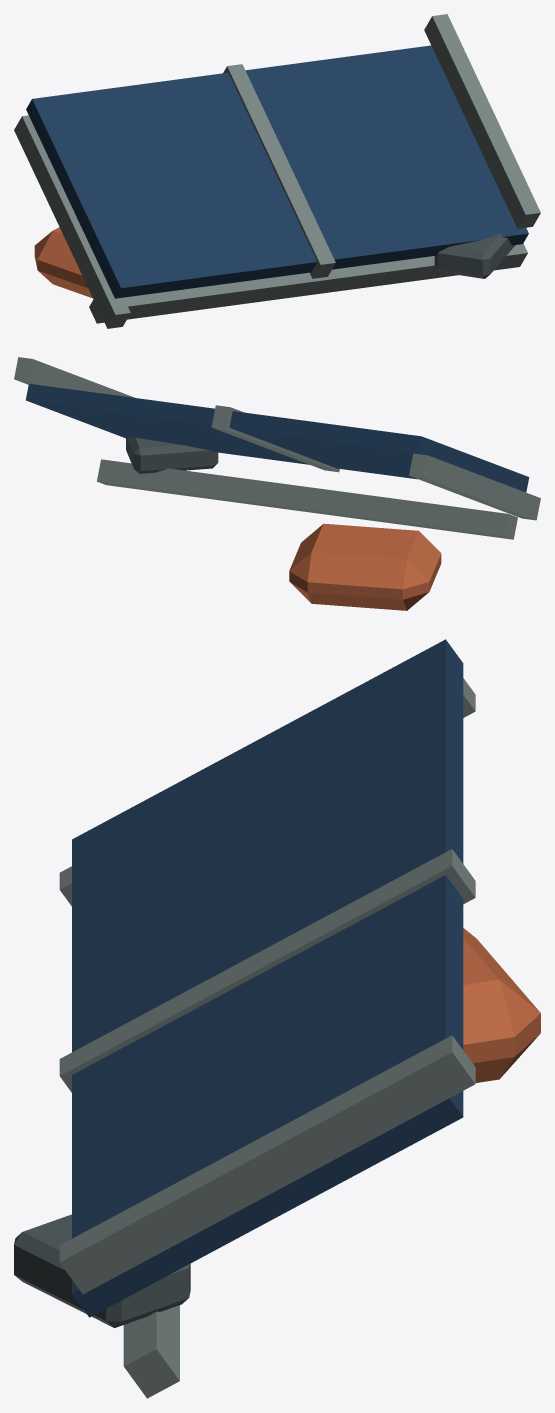
The model's file is ab_solar_fragment.glb.
3 renders of one model, top to bottom at view 1: azimuth 30°, elevation 25°; view 2: azimuth 150°, elevation 25°; view 3: azimuth 270°, elevation 25°, orthographic. The views are drawn at different scales.
Parts seen in each view (by area): view 1: ab_solar_fragment; view 2: ab_solar_fragment; view 3: ab_solar_fragment.
Boxes of the visible parts, left/top/right/bottom form: ab_solar_fragment: left=14, top=14, right=540, bottom=328; ab_solar_fragment: left=14, top=357, right=540, bottom=610; ab_solar_fragment: left=14, top=639, right=540, bottom=1398.
Bounding box in the file's own units: 1.71 × 0.7787 × 0.9562.
